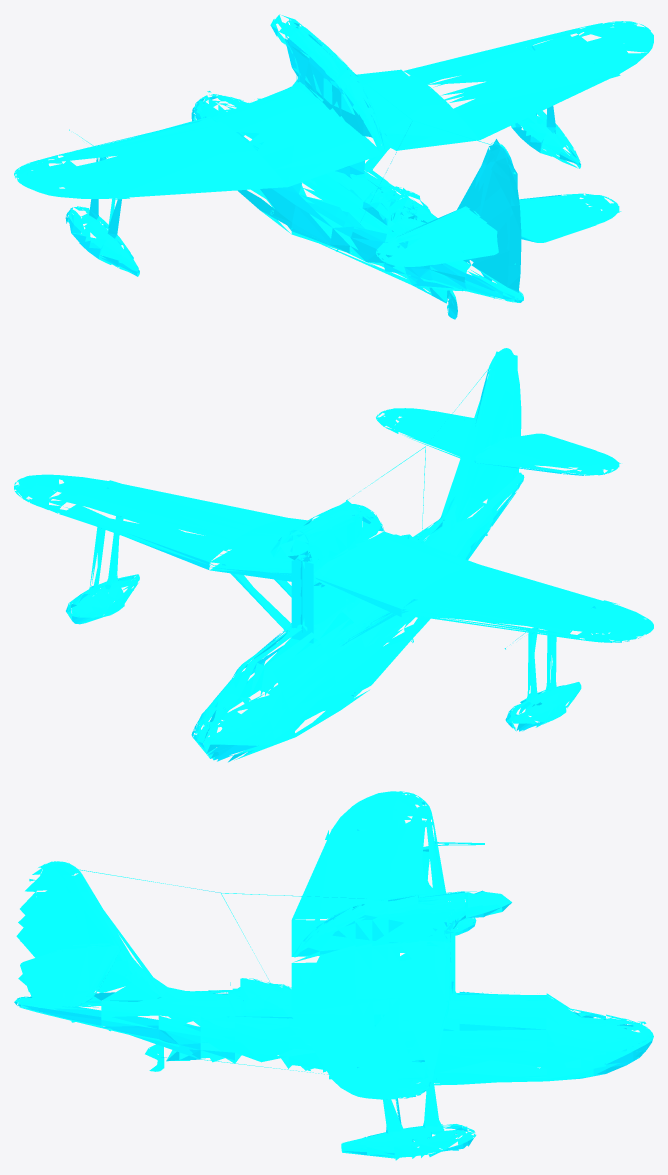
Rendered from PRAS006.glb.
3 renders of one model, top to bottom at view 1: azimuth 30°, elevation 25°; view 2: azimuth 150°, elevation 25°; view 3: azimuth 270°, elevation 25°, orthographic.
Parts seen in each view (by area): view 1: misc; view 2: misc; view 3: misc.
Part boxes in pixels (left/top/right/bottom): misc: left=14, top=14, right=653, bottom=319; misc: left=14, top=348, right=653, bottom=762; misc: left=14, top=791, right=653, bottom=1160.
Size of the model in its own units: 0.8 by 0.2715 by 0.7026.
